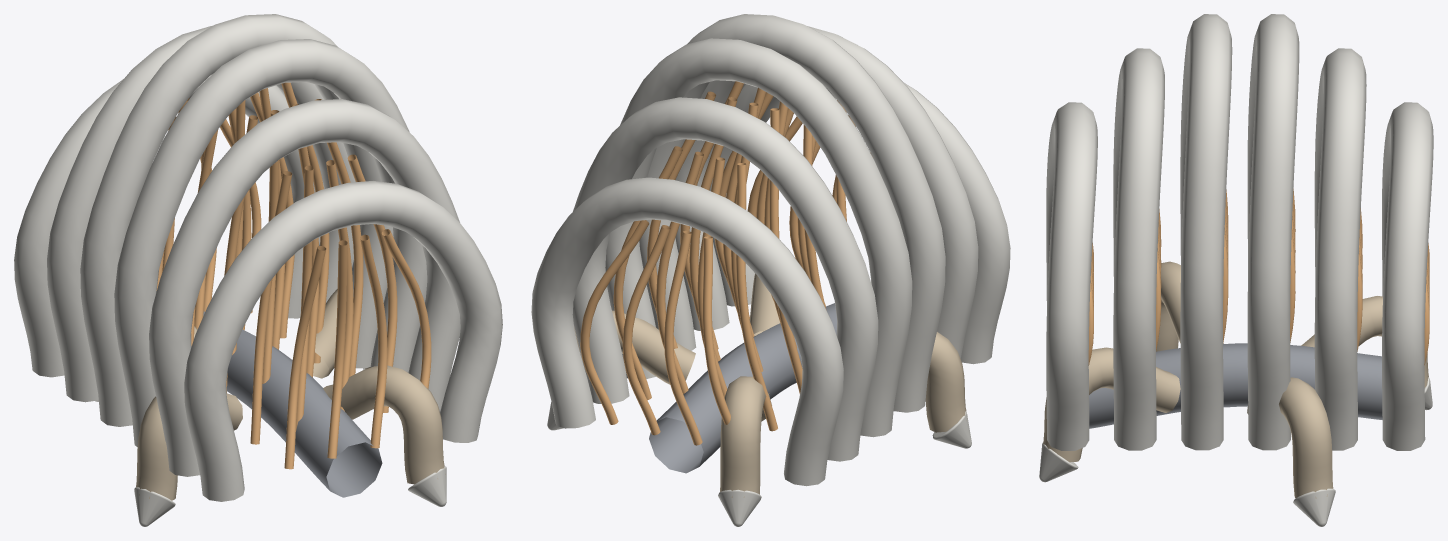
Rendered from bio_blind_harp_03_near.glb.
The picture shows the model from 3 angles, left to right: view 1: azimuth 30°, elevation 25°; view 2: azimuth 150°, elevation 25°; view 3: azimuth 270°, elevation 25°; orthographic projection. The views are drawn at different scales.
Visible parts, largest first — view 1: Open rib arch, Open rib arch.001, Open rib arch.002, Open rib arch.003, Open rib arch.004, Open rib arch.005, Low axial spine, Resonance filament, Resonance filament.004, Crooked support.003, Resonance filament.008, Resonance filament.012 (+6 smaller); view 2: Open rib arch.005, Open rib arch.004, Open rib arch.003, Open rib arch.002, Open rib arch.001, Open rib arch, Resonance filament.020, Low axial spine, Resonance filament.016, Resonance filament.012, Crooked support.001, Resonance filament.008 (+7 smaller); view 3: Open rib arch.002, Open rib arch.003, Open rib arch.001, Open rib arch.004, Open rib arch, Open rib arch.005, Low axial spine, Crooked support, Crooked support.003, Crooked support.002, Crooked support.001, Contact spur (+7 smaller).
Part boxes in pixels (left/top/right/bottom): Open rib arch: left=184, top=181, right=502, bottom=501; Open rib arch.001: left=149, top=99, right=460, bottom=476; Open rib arch.002: left=114, top=39, right=427, bottom=446; Open rib arch.003: left=80, top=14, right=393, bottom=426; Open rib arch.004: left=47, top=26, right=355, bottom=402; Open rib arch.005: left=14, top=75, right=324, bottom=377; Low axial spine: left=203, top=311, right=382, bottom=497; Resonance filament: left=284, top=229, right=431, bottom=469; Resonance filament.004: left=250, top=154, right=397, bottom=444; Crooked support.003: left=323, top=365, right=445, bottom=484; Resonance filament.008: left=224, top=99, right=363, bottom=393; Resonance filament.012: left=191, top=82, right=329, bottom=363; Open rib arch.005: left=531, top=177, right=843, bottom=486; Open rib arch.004: left=572, top=97, right=878, bottom=461; Open rib arch.003: left=605, top=38, right=912, bottom=437; Open rib arch.002: left=639, top=14, right=945, bottom=412; Open rib arch.001: left=675, top=26, right=978, bottom=358; Open rib arch: left=709, top=82, right=1010, bottom=364; Resonance filament.020: left=580, top=220, right=730, bottom=445; Low axial spine: left=649, top=303, right=836, bottom=473; Resonance filament.016: left=613, top=146, right=777, bottom=431; Resonance filament.012: left=647, top=91, right=802, bottom=393; Crooked support.001: left=720, top=376, right=771, bottom=497; Resonance filament.008: left=680, top=81, right=826, bottom=349; Open rib arch.002: left=1180, top=14, right=1232, bottom=450; Open rib arch.003: left=1247, top=14, right=1299, bottom=450; Open rib arch.001: left=1113, top=48, right=1164, bottom=450; Open rib arch.004: left=1314, top=48, right=1366, bottom=450; Open rib arch: left=1046, top=102, right=1097, bottom=450; Open rib arch.005: left=1382, top=102, right=1433, bottom=450; Low axial spine: left=1089, top=343, right=1382, bottom=428; Crooked support: left=1247, top=377, right=1333, bottom=498; Crooked support.003: left=1042, top=347, right=1180, bottom=462; Crooked support.002: left=1156, top=261, right=1223, bottom=351; Crooked support.001: left=1301, top=296, right=1428, bottom=387; Contact spur: left=1293, top=488, right=1335, bottom=526.
Bounding box in the file's own units: 1.85 × 2.15 × 1.85.
